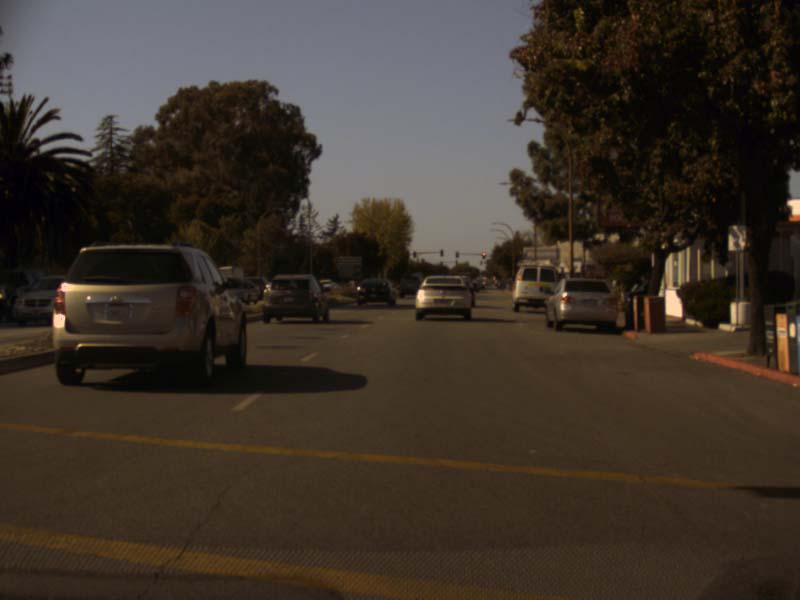Red: (482, 251, 485, 259), (454, 251, 458, 257)
